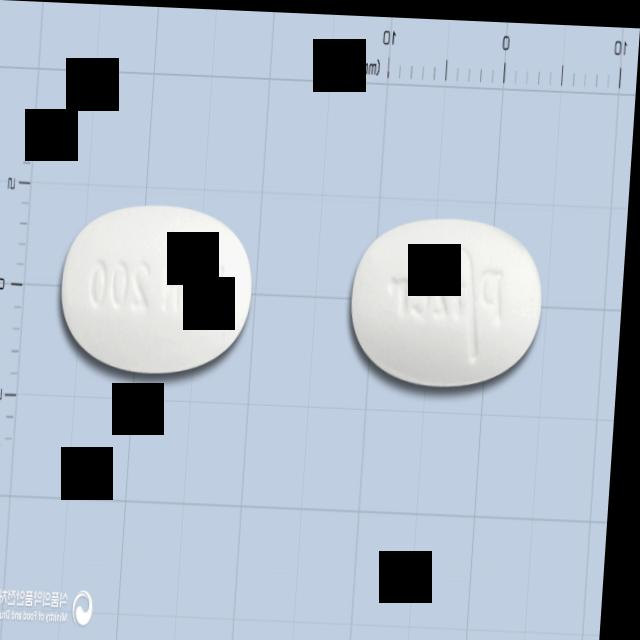Vfend Tab: (60, 200, 260, 375), (351, 211, 550, 386)
